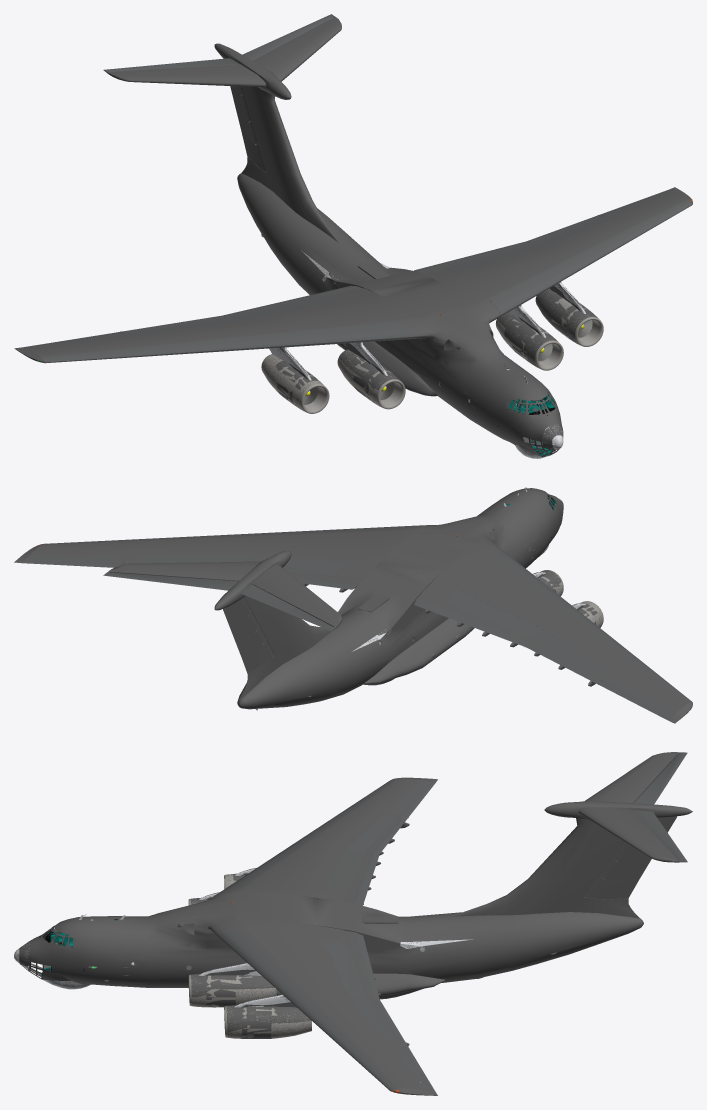
The picture shows the model from 3 angles, top to bottom: view 1: azimuth 30°, elevation 25°; view 2: azimuth 150°, elevation 25°; view 3: azimuth 270°, elevation 25°; orthographic projection.
Parts seen in each view (by area): view 1: Material2.001; view 2: Material2.001; view 3: Material2.001.
Part boxes in pixels (left/top/right/bottom): Material2.001: left=14, top=14, right=692, bottom=458; Material2.001: left=14, top=487, right=692, bottom=723; Material2.001: left=14, top=752, right=692, bottom=1095.
Size of the model in its own units: 5050 by 1418 by 4577.
15 materials, 15 textured.
